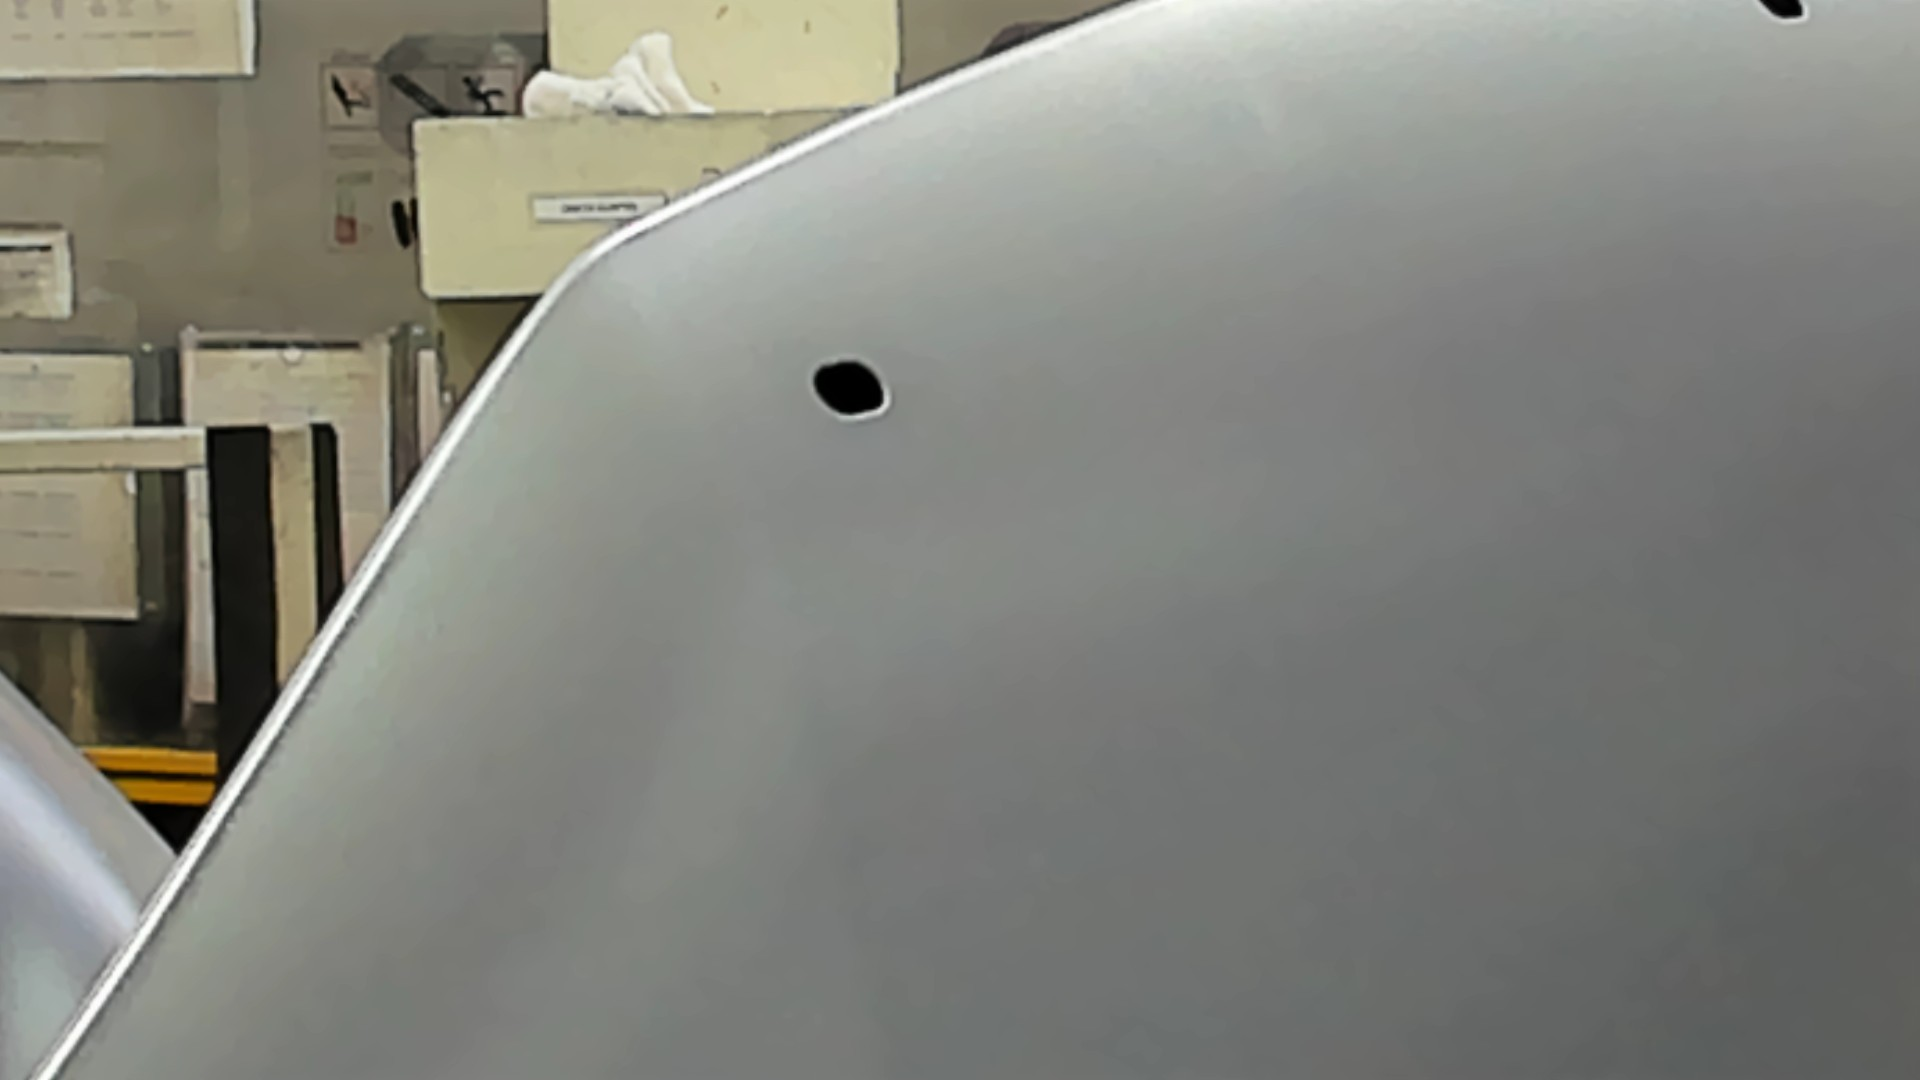amorfo: (811, 357, 895, 425), (1756, 1, 1811, 24)
